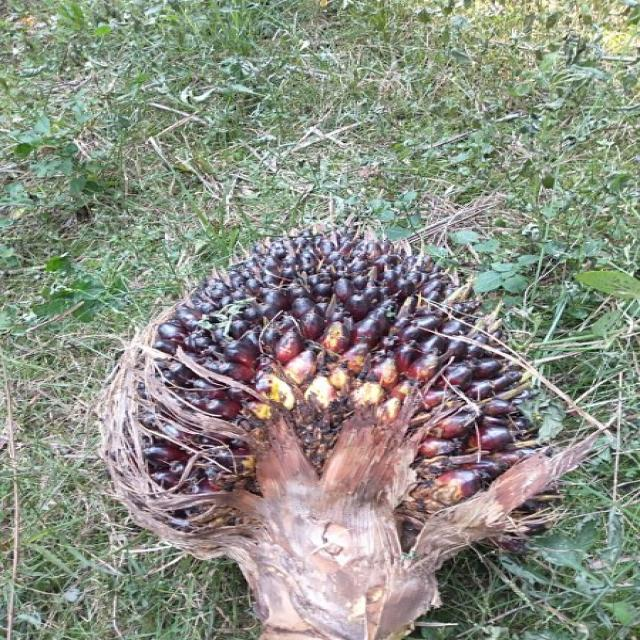fraksi 00: (93, 223, 545, 545)
